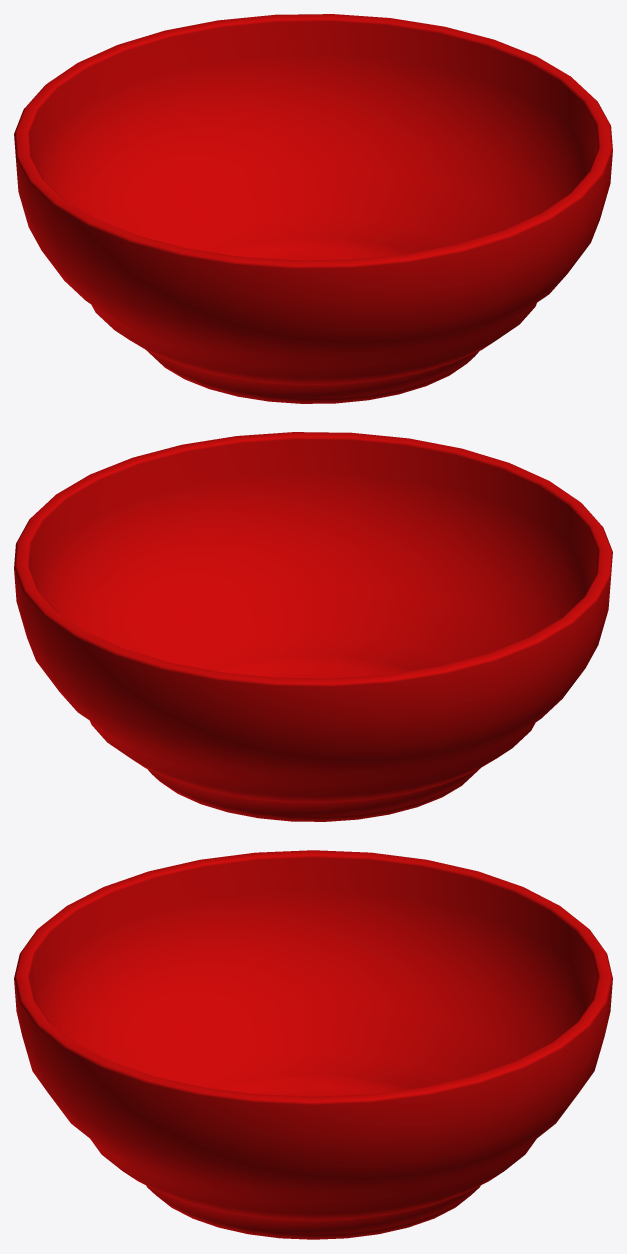
3 renders of one model, top to bottom at view 1: azimuth 30°, elevation 25°; view 2: azimuth 150°, elevation 25°; view 3: azimuth 270°, elevation 25°, orthographic.
Parts seen in each view (by area): view 1: bowl; view 2: bowl; view 3: bowl.
Boxes of the visible parts, left/top/right/bottom form: bowl: left=14, top=14, right=612, bottom=403; bowl: left=14, top=432, right=612, bottom=821; bowl: left=14, top=850, right=612, bottom=1239.
Bounding box in the file's own units: 0.1948 × 0.071 × 0.1948.
